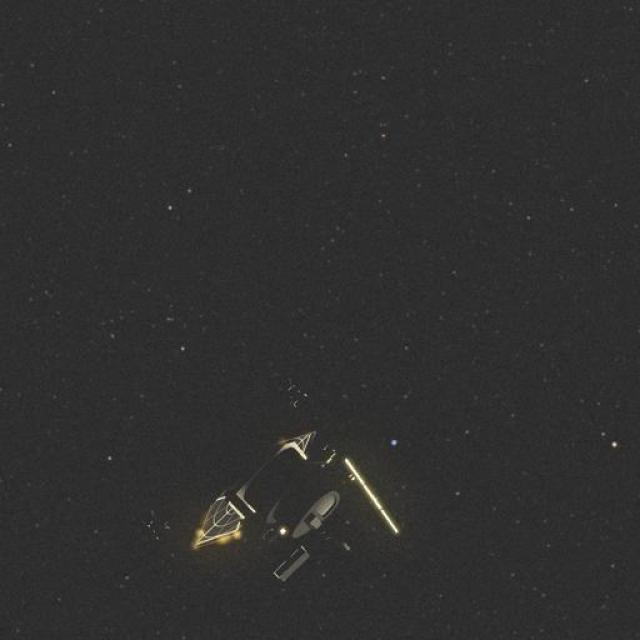earth_observation_sat_1: (160, 412, 424, 592)
